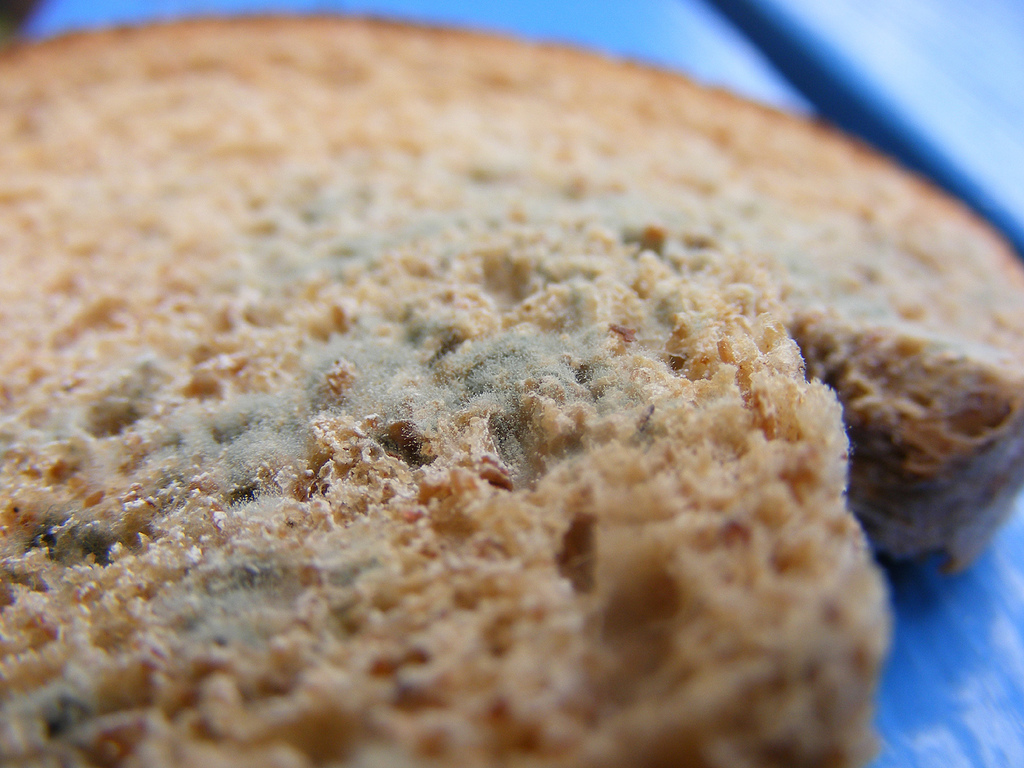slice of bread: (27, 71, 837, 720)
